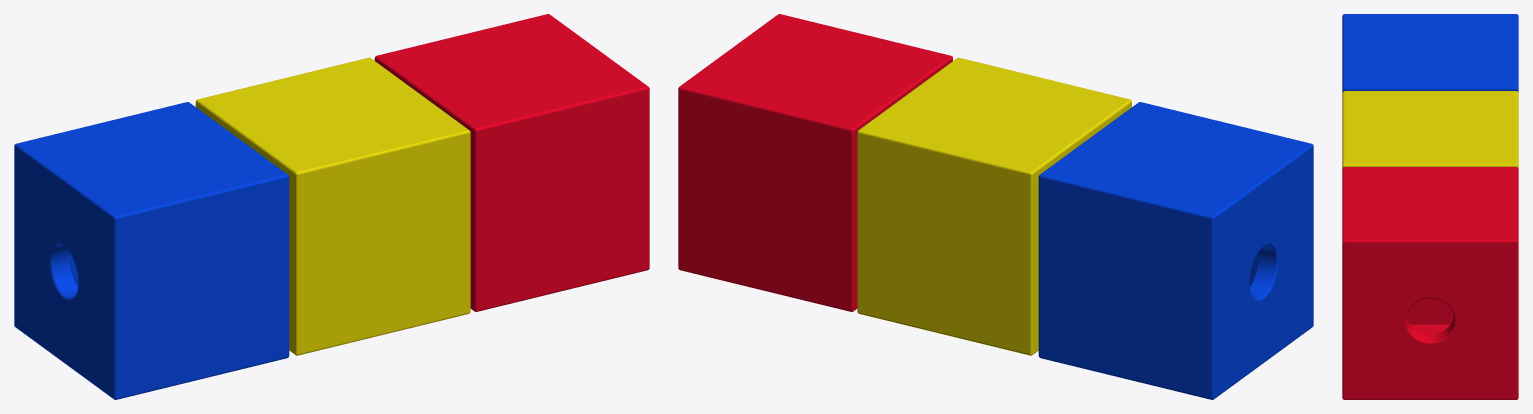
The model's file is threejs-test.glb.
3 renders of one model, left to right at view 1: azimuth 30°, elevation 25°; view 2: azimuth 150°, elevation 25°; view 3: azimuth 270°, elevation 25°, orthographic. The views are drawn at different scales.
Parts seen in each view (by area): view 1: Cube, Cube.002, Cube.001; view 2: Cube, Cube.002, Cube.001; view 3: Cube.001, Cube, Cube.002.
Part boxes in pixels (x1,y1,x2,y2): Cube: [14, 102, 289, 399]; Cube.002: [195, 57, 470, 355]; Cube.001: [374, 14, 649, 311]; Cube: [1038, 102, 1313, 399]; Cube.002: [857, 57, 1131, 355]; Cube.001: [678, 14, 952, 311]; Cube.001: [1342, 167, 1518, 399]; Cube: [1342, 14, 1518, 92]; Cube.002: [1342, 91, 1518, 168].
Bounding box in the file's own units: 28.96 × 9.48 × 9.48.
